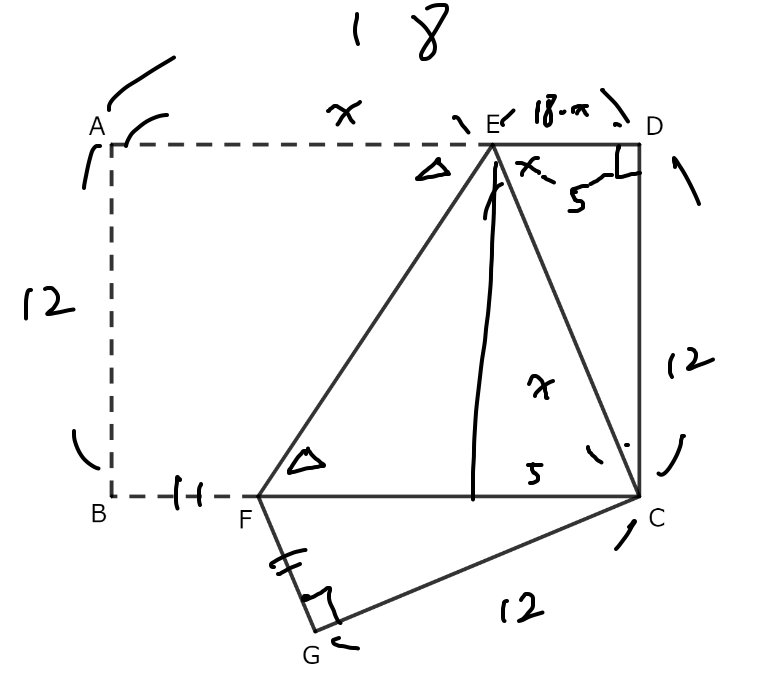Angle_Right: (301, 585, 343, 626)
Edge_Dline: (163, 472, 206, 520), (263, 541, 313, 580)
